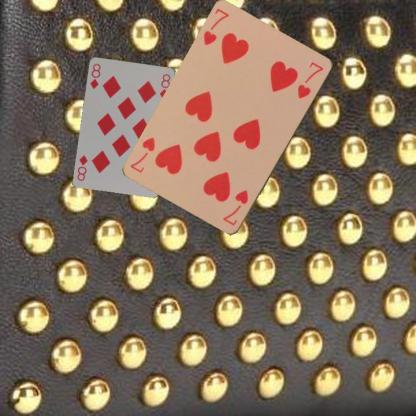7h: (200, 6, 230, 47), (220, 187, 250, 227)
8d: (87, 61, 102, 90)
